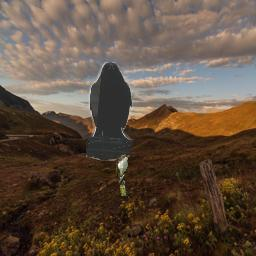Crow: (86, 62, 134, 161)
Cuckoo: (116, 153, 130, 196)
